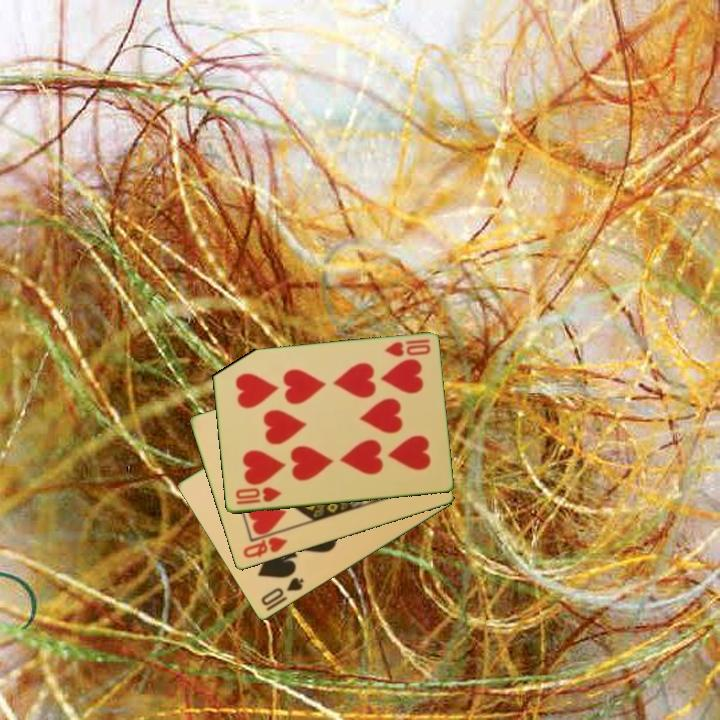10h: (381, 336, 433, 360), (232, 484, 284, 507)
10s: (257, 574, 307, 609)
Qh: (239, 533, 291, 561)
